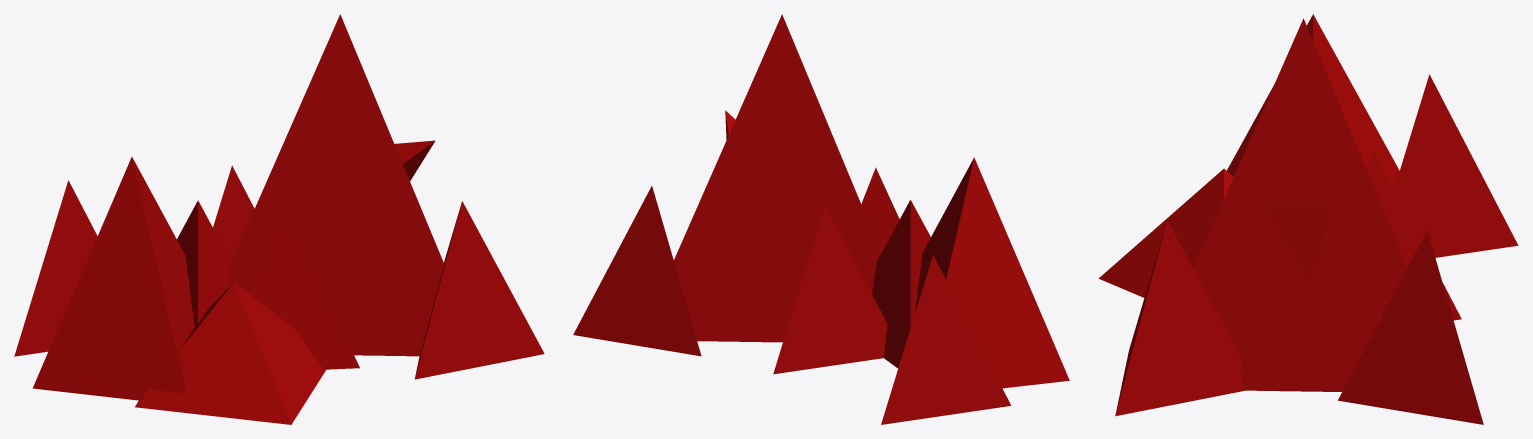
Rendered from flames.fbx.
3 views of the same model, side by side, from view 1: azimuth 30°, elevation 25°; view 2: azimuth 150°, elevation 25°; view 3: azimuth 270°, elevation 25° (orthographic). The views are drawn at different scales.
Parts seen in each view (by area): view 1: pCone11; view 2: pCone11; view 3: pCone11.
Boxes of the visible parts, x1,y1,x2,y2 form: pCone11: [14, 14, 544, 424]; pCone11: [573, 14, 1069, 424]; pCone11: [1099, 14, 1518, 424].
Bounding box in the file's own units: 61.04 × 40.96 × 46.31.
